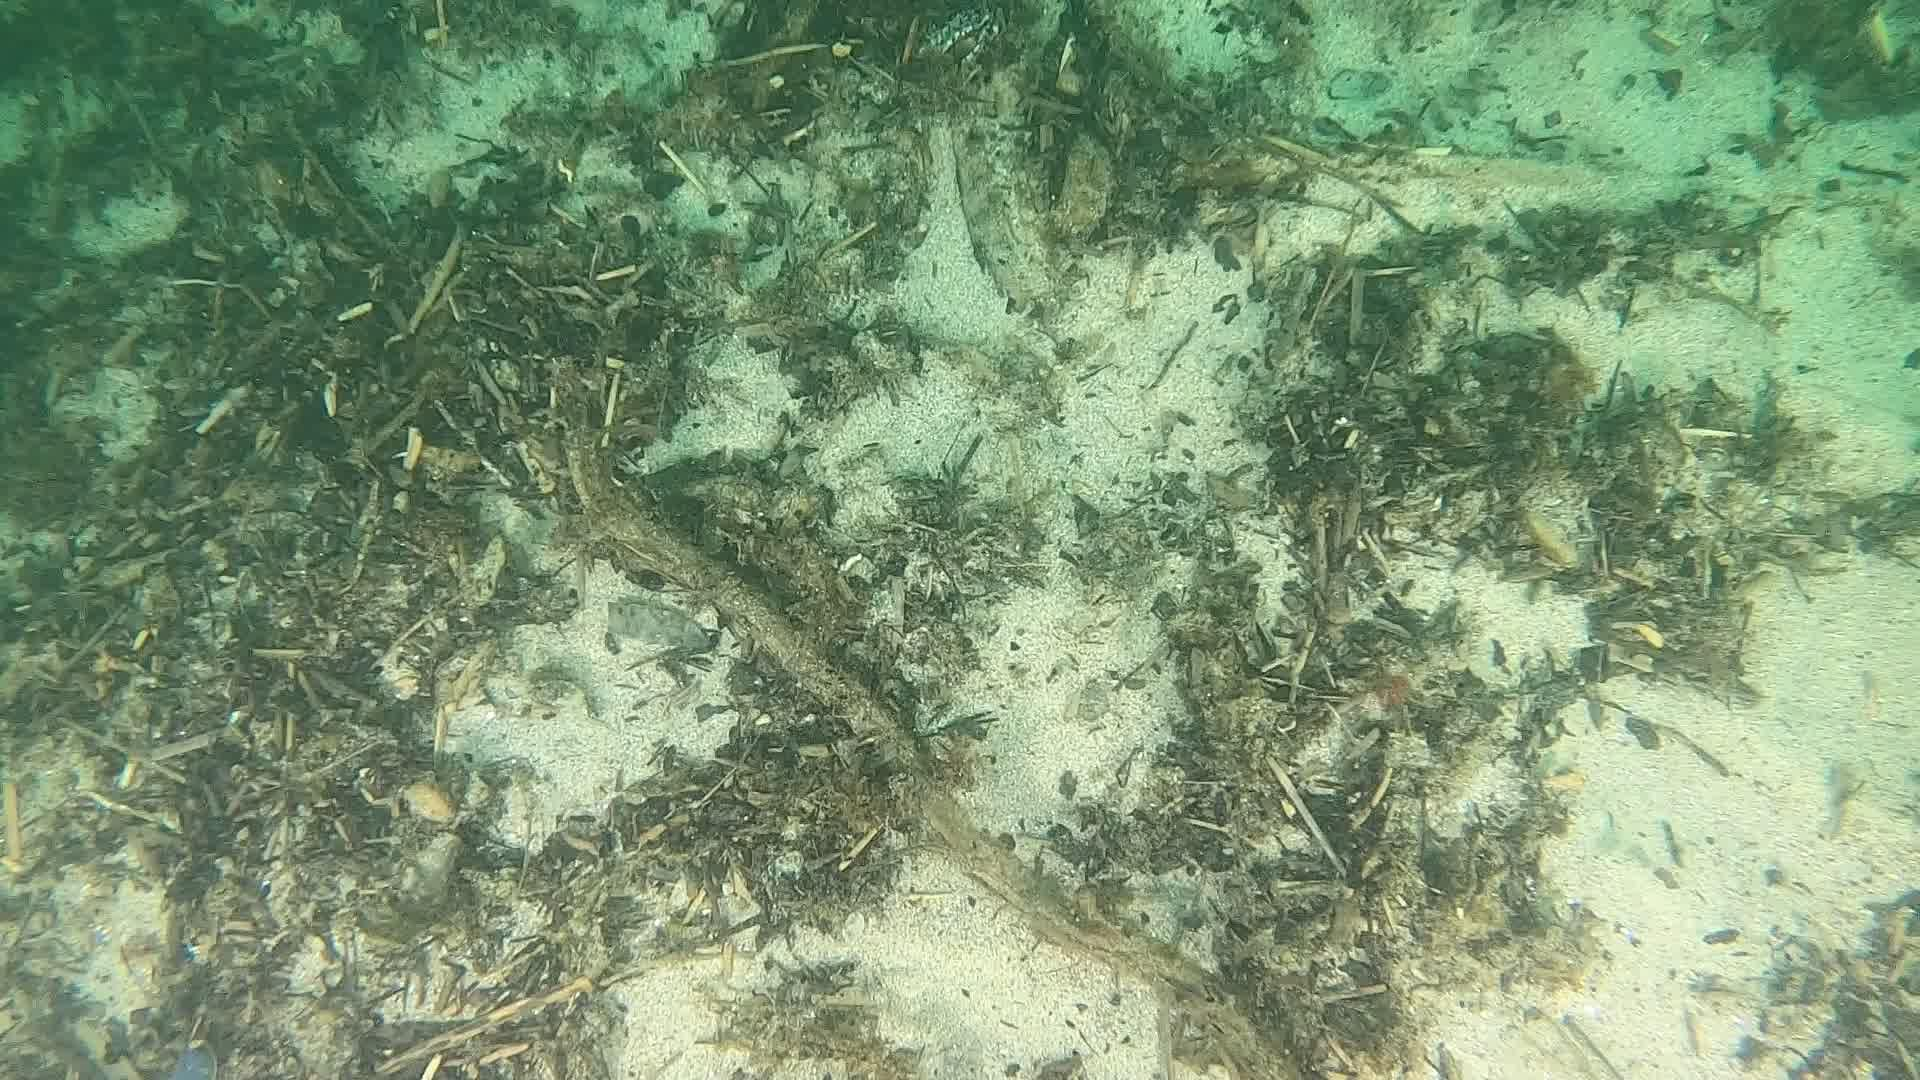wood: (564, 442, 1236, 1027)
